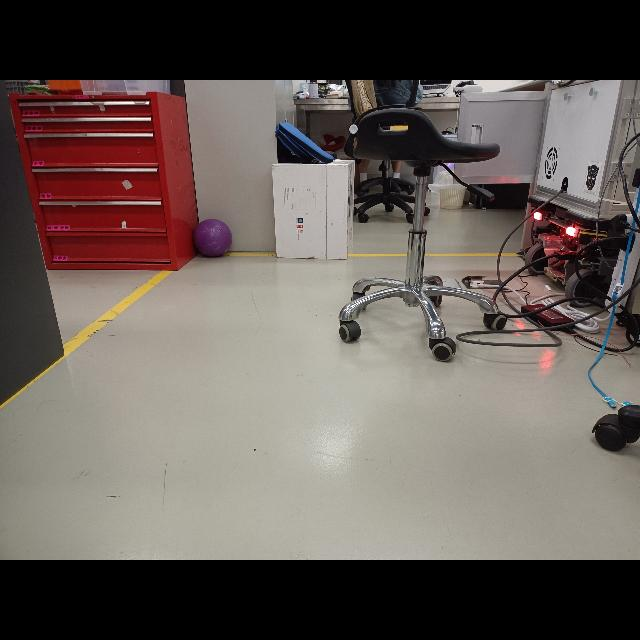P: (192, 217, 232, 256)
